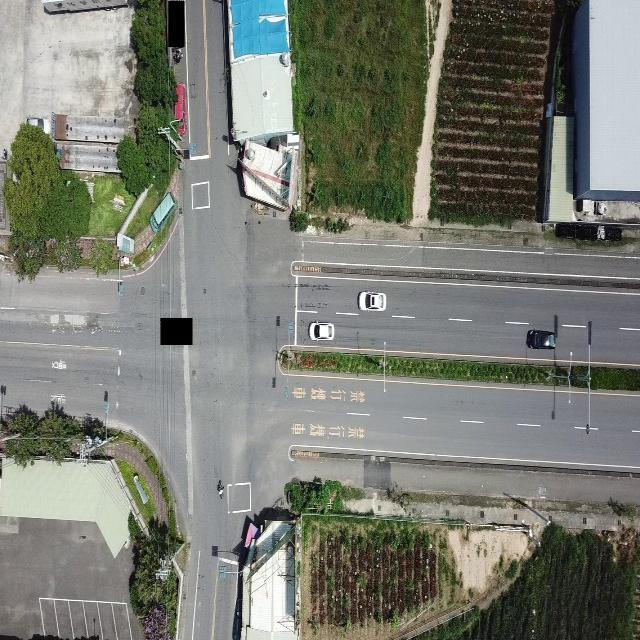bike: (216, 478, 224, 495), (174, 53, 184, 62)
bus: (168, 79, 191, 138), (149, 191, 176, 234)
car: (307, 319, 343, 344), (525, 327, 557, 352), (356, 287, 386, 312), (26, 115, 48, 138)
